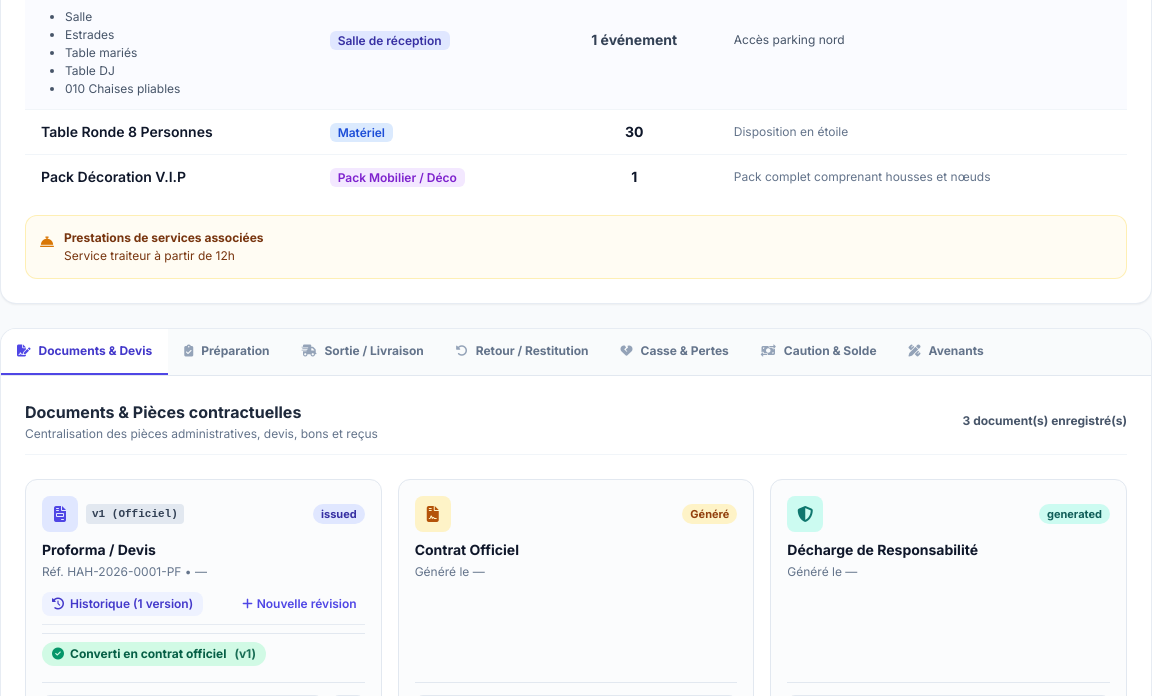
Test: HahitantsoaEventDraftDetailPage › closes a confirmed event through the backend and displays the persisted result
(page scrolled)
Switch to closeout tab (caution & solde)
Step 1. Click the button "Caution & Solde" → (819, 352), box top-left (745, 329), bottom-right (892, 375)
(page scrolled)
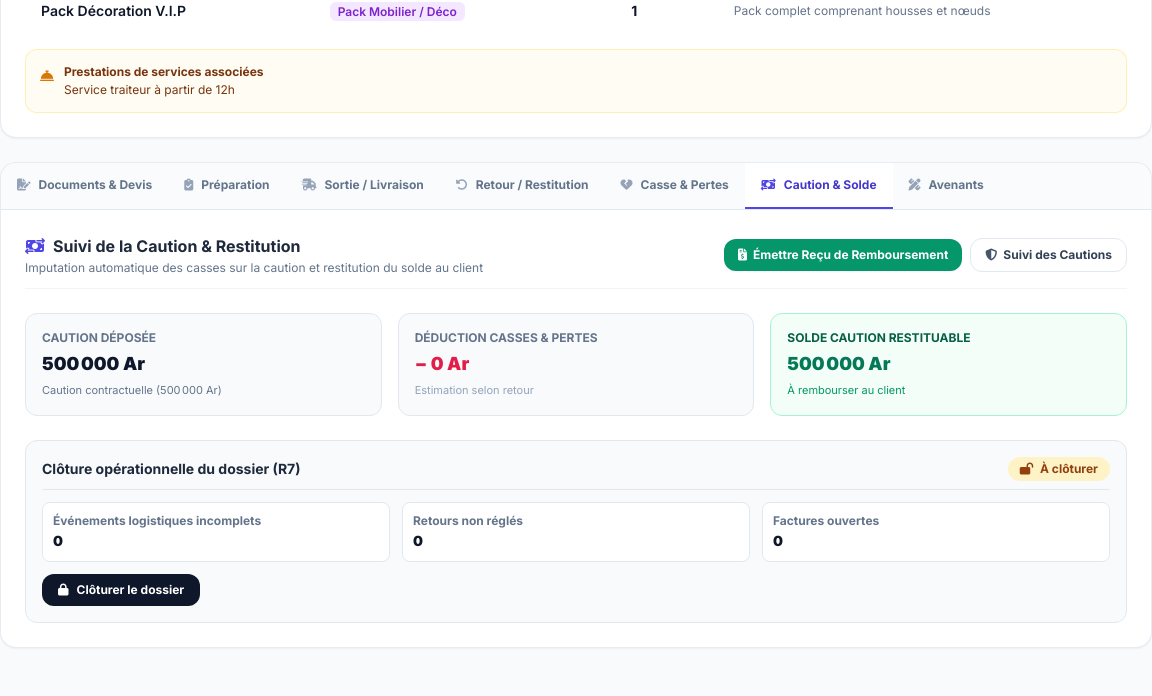
Step 2. Click the button "Clôturer le dossier" → (121, 590), box top-left (42, 574), bottom-right (200, 606)
(page scrolled)
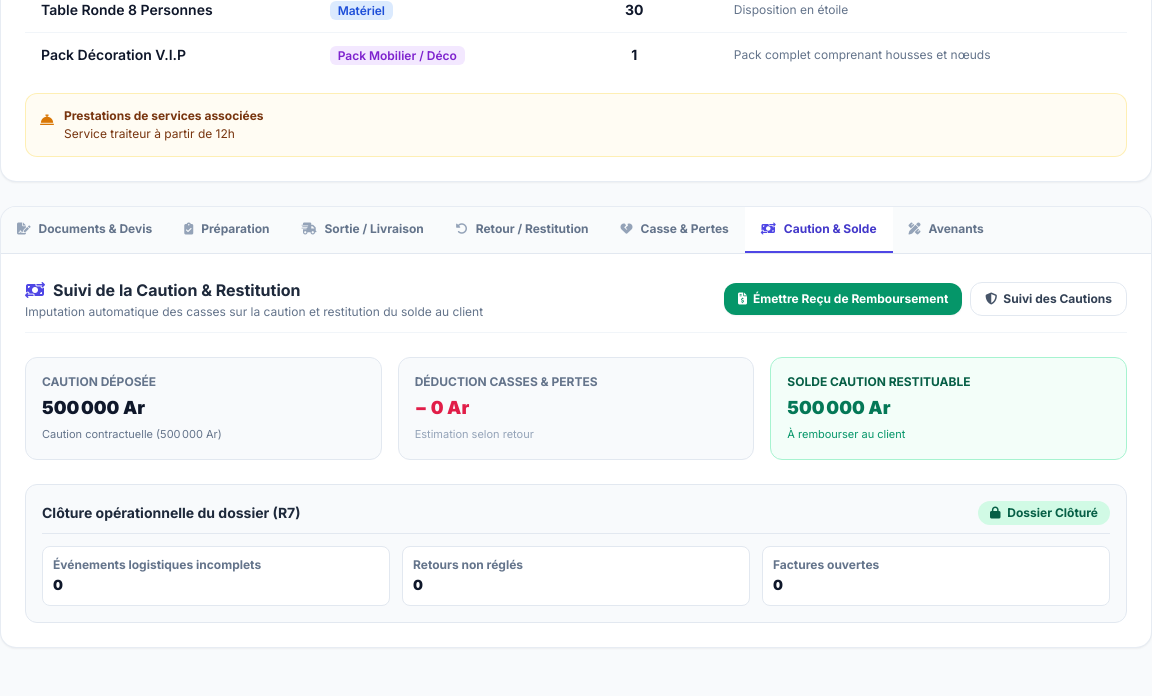
expect the text "Dossier Clôturé" is shown: met, box top-left (978, 500), bottom-right (1110, 524)
